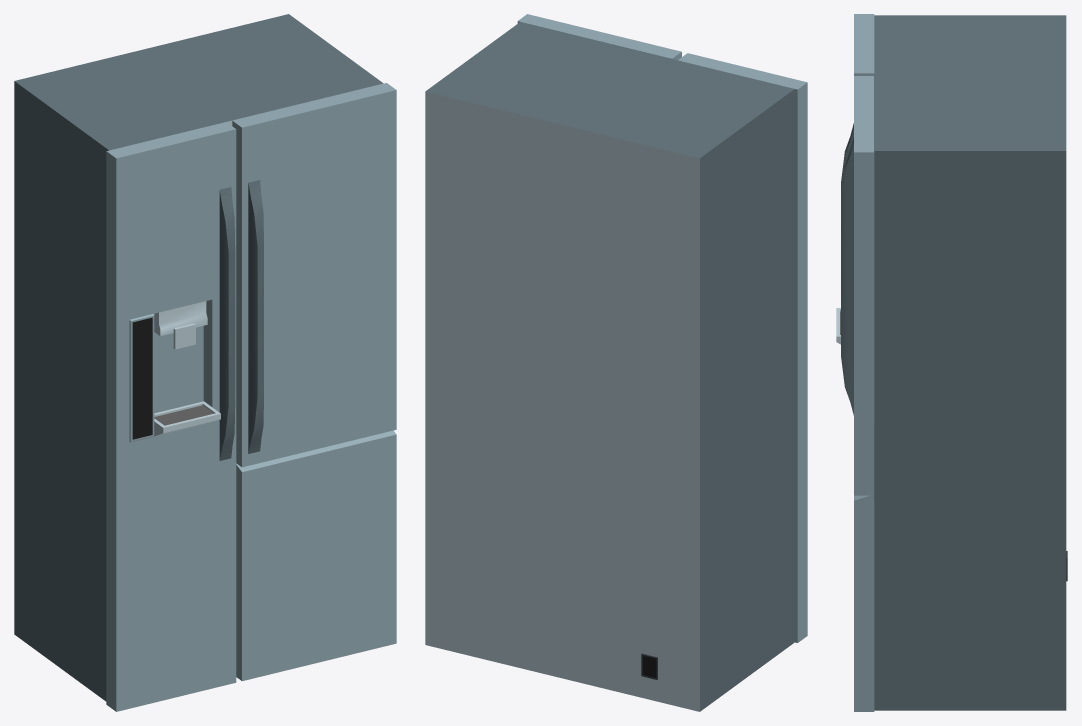
Rendered from fridge.glb.
3 renders of one model, left to right at view 1: azimuth 30°, elevation 25°; view 2: azimuth 150°, elevation 25°; view 3: azimuth 270°, elevation 25°, orthographic.
Visible parts, largest first — view 1: Fridge_SBS_Cube.003; view 2: Fridge_SBS_Cube.003; view 3: Fridge_SBS_Cube.003.
Part boxes in pixels (left/top/right/bottom): Fridge_SBS_Cube.003: left=14, top=14, right=396, bottom=711; Fridge_SBS_Cube.003: left=425, top=14, right=807, bottom=711; Fridge_SBS_Cube.003: left=836, top=14, right=1067, bottom=711.
Size of the model in its own units: 91.96 by 174 by 65.06.
1 material, 1 textured.
